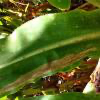Corn leaf blight: (0, 8, 99, 96)
